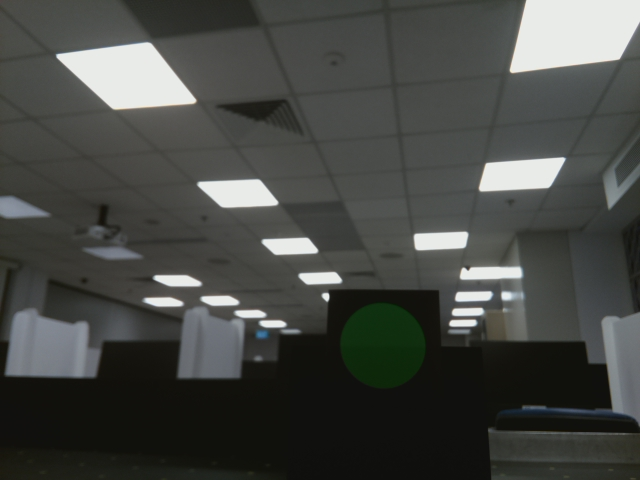go: (333, 297, 433, 392)
